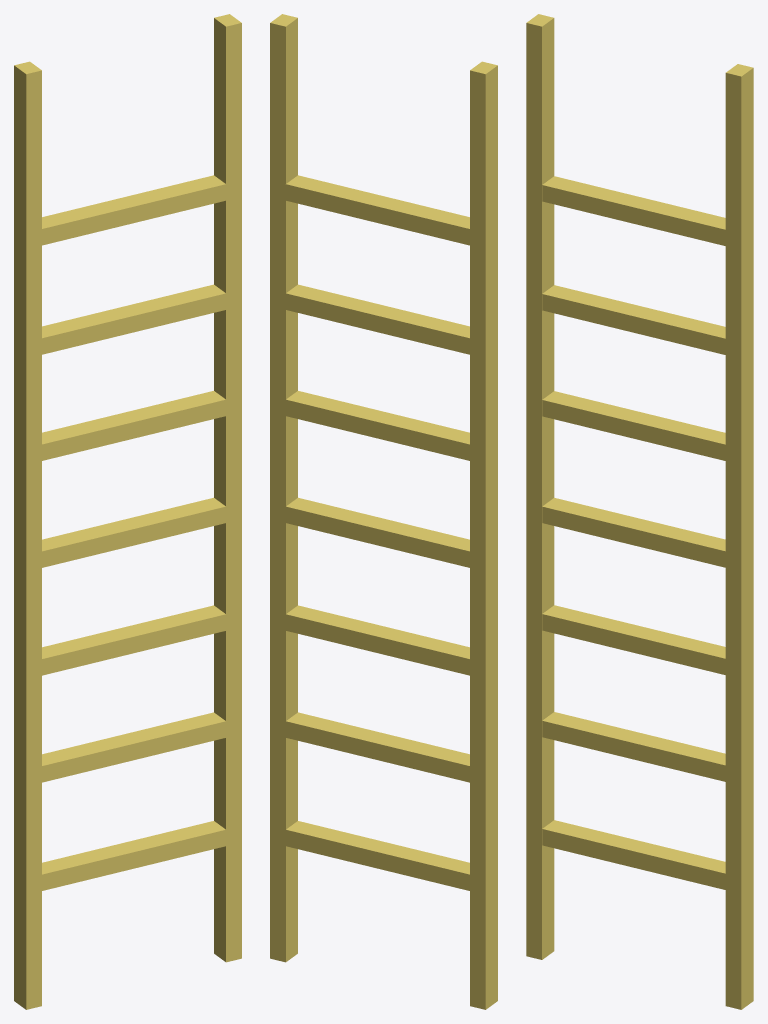
Rendered from はしご.gltf.
The picture shows the model from 3 angles, left to right: view 1: azimuth 30°, elevation 25°; view 2: azimuth 150°, elevation 25°; view 3: azimuth 330°, elevation 25°; orthographic projection.
Parts seen in each view (by area): view 1: はしご; view 2: はしご; view 3: はしご.
Part boxes in pixels (x1=…): はしご: x1=14, y1=14, x2=241, y2=1009; はしご: x1=270, y1=14, x2=497, y2=1009; はしご: x1=526, y1=14, x2=753, y2=1009.
Bounding box in the file's own units: 0.8199 × 3.4 × 0.08.
